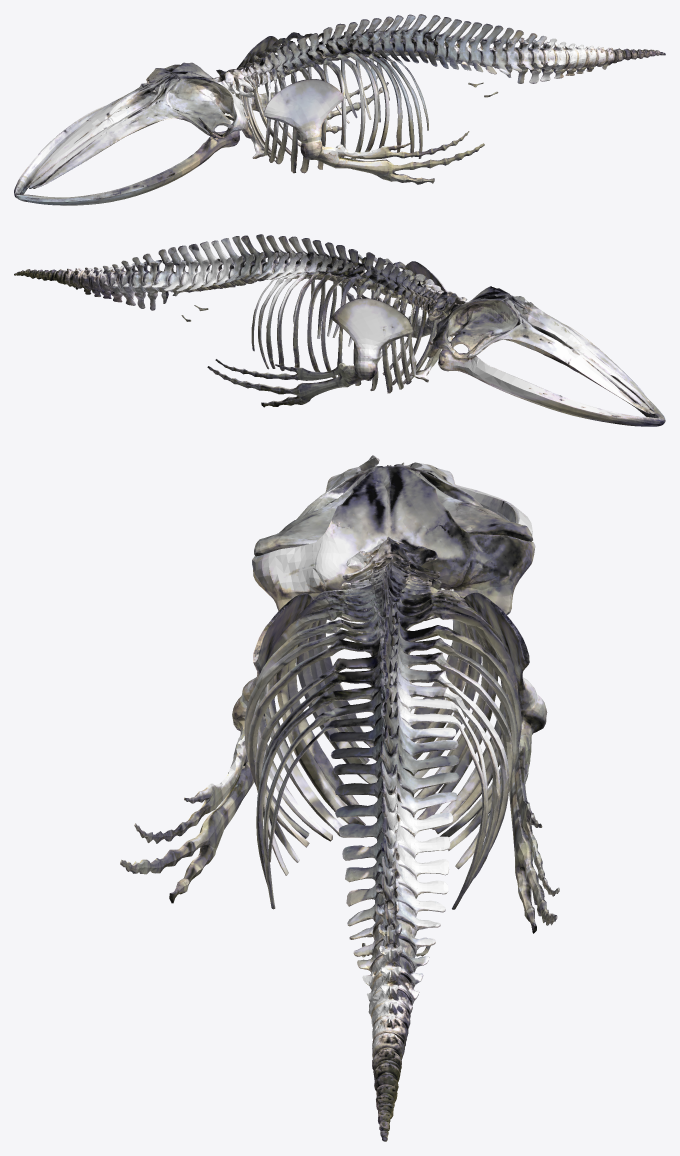
File: baleia.obj
3 views of the same model, one above another, from view 1: azimuth 30°, elevation 25°; view 2: azimuth 150°, elevation 25°; view 3: azimuth 270°, elevation 25° (orthographic). The views are drawn at different scales.
Parts seen in each view (by area): view 1: Baleia_U3V2, Baleia_U2V2, Baleia_U3V1, Baleia_U2V1, Baleia_U1V1, Baleia_U1V2; view 2: Baleia_U3V2, Baleia_U1V2, Baleia_U3V1, Baleia_U2V1, Baleia_U1V1, Baleia_U2V2; view 3: Baleia_U2V2, Baleia_U1V2, Baleia_U3V2, Baleia_U3V1, Baleia_U1V1, Baleia_U2V1.
Boxes of the visible parts, box(x1,y1,x2,y2) form: Baleia_U3V2: box(238, 14, 609, 158); Baleia_U2V2: box(239, 47, 665, 173); Baleia_U3V1: box(236, 36, 498, 184); Baleia_U2V1: box(14, 64, 252, 205); Baleia_U1V1: box(26, 62, 244, 188); Baleia_U1V2: box(227, 30, 504, 161); Baleia_U3V2: box(70, 234, 442, 382); Baleia_U1V2: box(122, 269, 444, 393); Baleia_U3V1: box(181, 261, 446, 407); Baleia_U2V1: box(427, 294, 665, 426); Baleia_U1V1: box(435, 286, 655, 414); Baleia_U2V2: box(14, 254, 446, 385); Baleia_U2V2: box(244, 562, 411, 1141); Baleia_U1V2: box(371, 565, 521, 984); Baleia_U3V2: box(363, 556, 419, 1059); Baleia_U3V1: box(120, 592, 559, 957); Baleia_U1V1: box(254, 455, 482, 590); Baleia_U2V1: box(252, 469, 535, 641).
Bounding box in the file's own units: 1106 × 235 × 325.
6 materials, 6 textured.
